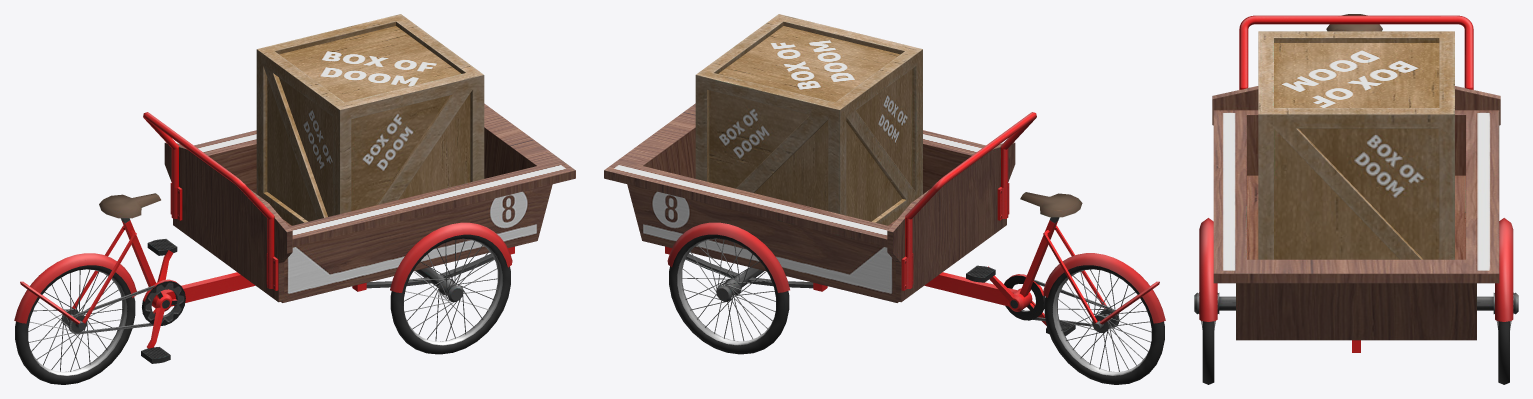
File: f1_august_bike_01_with_wheel.dae
The picture shows the model from 3 angles, left to right: view 1: azimuth 30°, elevation 25°; view 2: azimuth 150°, elevation 25°; view 3: azimuth 270°, elevation 25°; orthographic projection. The views are drawn at different scales.
Parts seen in each view (by area): view 1: august-bike-body, august-bike-wheels; view 2: august-bike-body, august-bike-wheels; view 3: august-bike-body, august-bike-wheels.
Boxes of the visible parts, bbox=[...] form: august-bike-body: bbox=[20, 14, 575, 363]; august-bike-wheels: bbox=[14, 222, 512, 384]; august-bike-body: bbox=[604, 14, 1159, 336]; august-bike-wheels: bbox=[667, 222, 1165, 384]; august-bike-body: bbox=[1194, 14, 1518, 352]; august-bike-wheels: bbox=[1199, 218, 1513, 384].
Size of the model in its own units: 0.3072 by 0.1458 by 0.1459.
2 materials, 2 textured.
